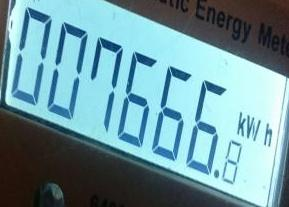.: (234, 109, 273, 147)
0: (213, 168, 220, 178)
1: (14, 7, 52, 107), (50, 23, 87, 122)
7: (151, 63, 192, 162), (190, 81, 231, 175), (119, 52, 157, 148)
8: (85, 39, 122, 136)
9: (221, 140, 245, 185)
